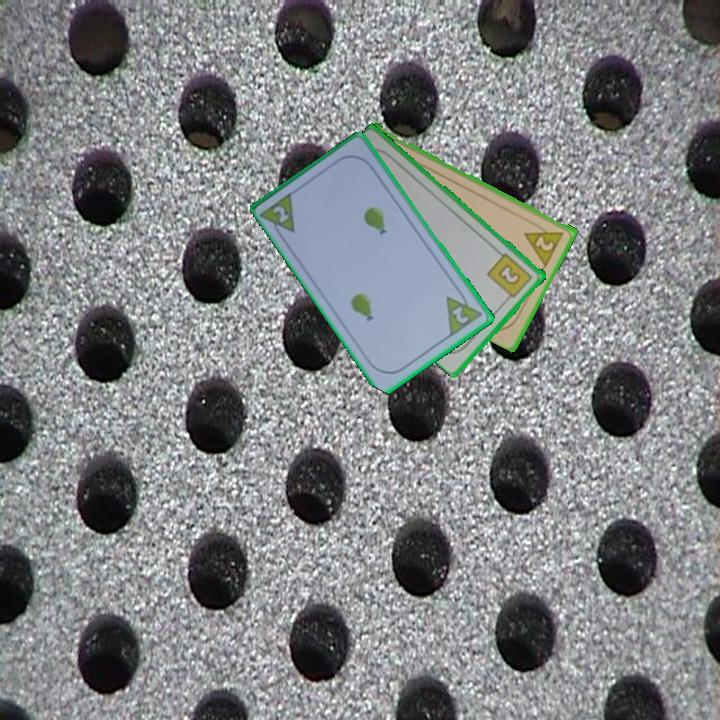2b: (484, 250, 536, 304)
2p: (443, 285, 486, 340), (521, 219, 568, 268), (269, 202, 293, 226)
